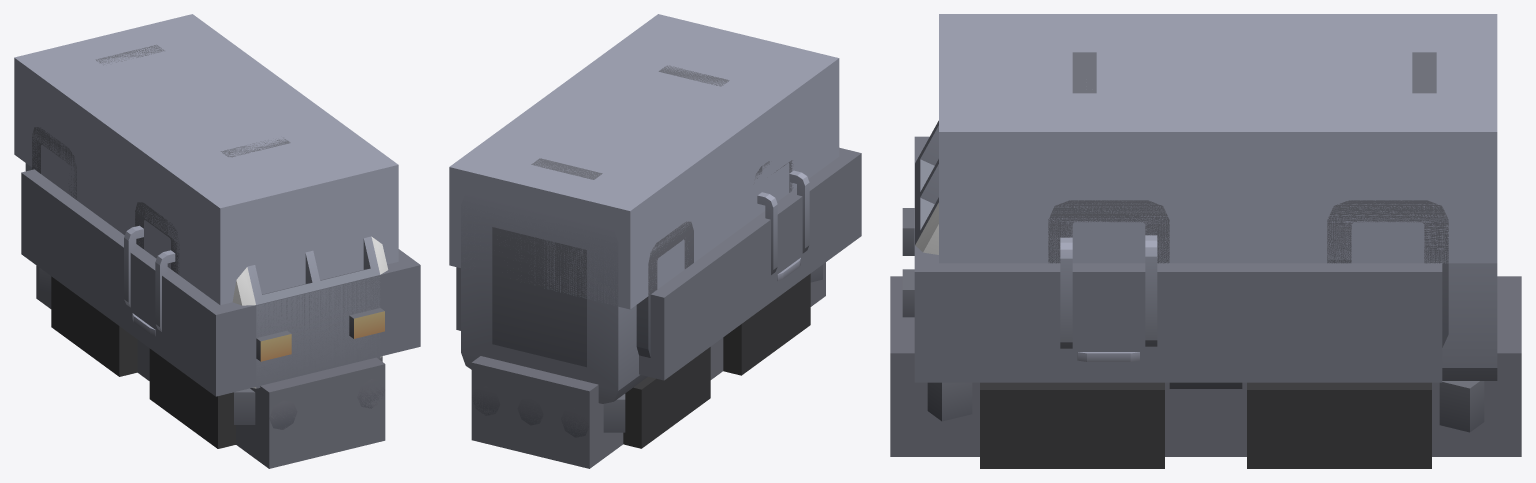
Rendered from metro.car.glb.
3 renders of one model, left to right at view 1: azimuth 30°, elevation 25°; view 2: azimuth 150°, elevation 25°; view 3: azimuth 270°, elevation 25°, orthographic. The views are drawn at different scales.
Parts seen in each view (by area): view 1: far, near; view 2: far, near; view 3: far, near.
Part boxes in pixels (<box>): far: <box>14,14,420,468</box>; near: <box>25,44,388,448</box>; far: <box>449,14,861,468</box>; near: <box>461,65,822,448</box>; far: <box>890,14,1521,456</box>; near: <box>902,52,1497,468</box>.
Bounding box in the file's own units: 2.8 × 3.26 × 5.39.
